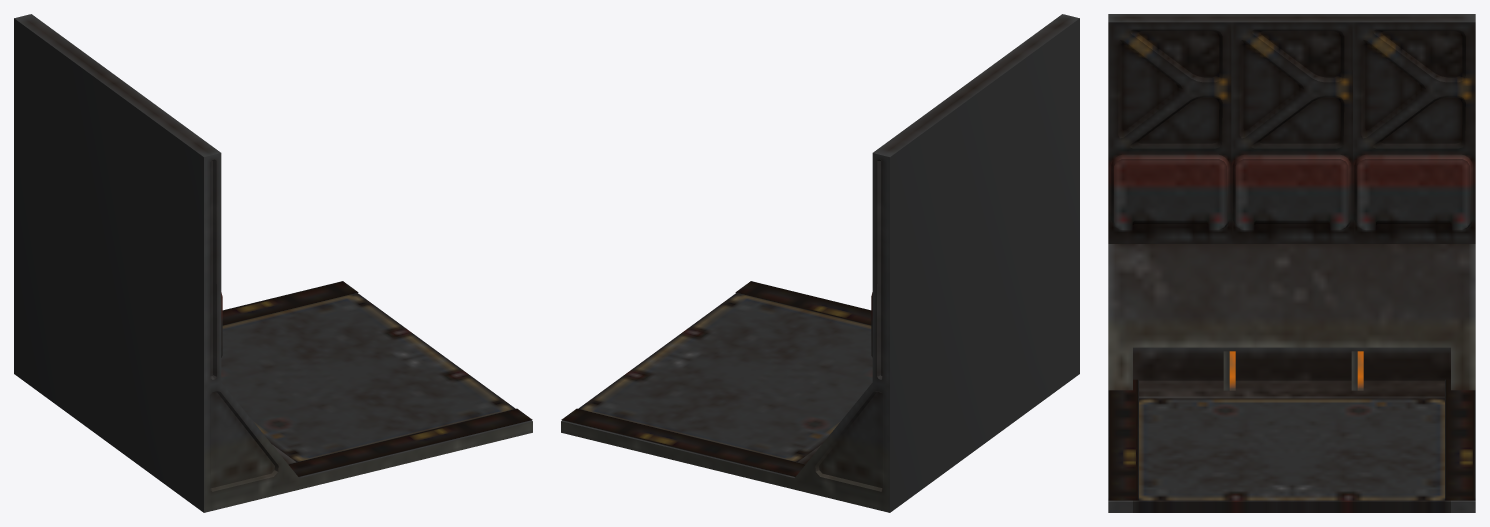
File: Wall-Floor_01.FBX
The picture shows the model from 3 angles, left to right: view 1: azimuth 30°, elevation 25°; view 2: azimuth 150°, elevation 25°; view 3: azimuth 270°, elevation 25°; orthographic projection. The views are drawn at different scales.
Parts seen in each view (by area): view 1: Wall-Floor_01; view 2: Wall-Floor_01; view 3: Wall-Floor_01.
Part boxes in pixels (<box>): Wall-Floor_01: <box>14,14,532,512</box>; Wall-Floor_01: <box>561,14,1079,512</box>; Wall-Floor_01: <box>1108,14,1475,512</box>.
Bounding box in the file's own units: 300 × 310 × 300.
